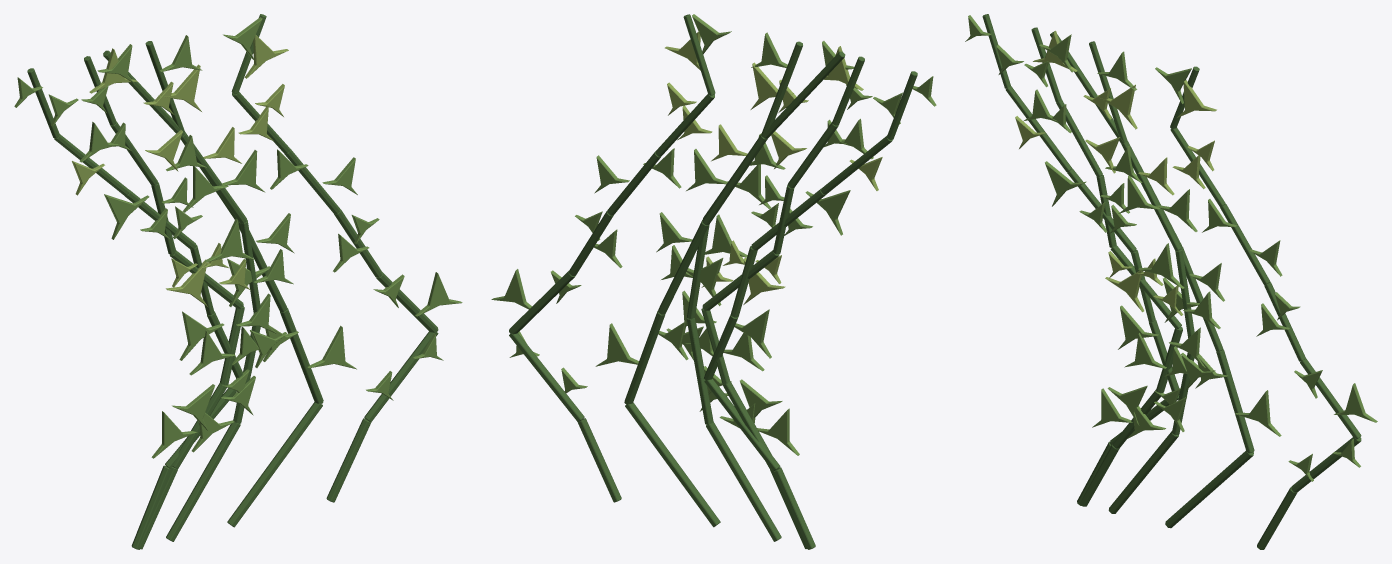
File: runtime.glb
3 renders of one model, left to right at view 1: azimuth 30°, elevation 25°; view 2: azimuth 150°, elevation 25°; view 3: azimuth 330°, elevation 25°, orthographic. The views are drawn at different scales.
Parts seen in each view (by area): view 1: falkenwacht-wall-ivy-v09_nocol; view 2: falkenwacht-wall-ivy-v09_nocol; view 3: falkenwacht-wall-ivy-v09_nocol.
Part boxes in pixels (box(x1,y1,x2,y2)): falkenwacht-wall-ivy-v09_nocol: box(14, 14, 462, 549); falkenwacht-wall-ivy-v09_nocol: box(491, 14, 936, 549); falkenwacht-wall-ivy-v09_nocol: box(965, 14, 1377, 549).
Bounding box in the file's own units: 2.44 × 2.67 × 0.0805.
